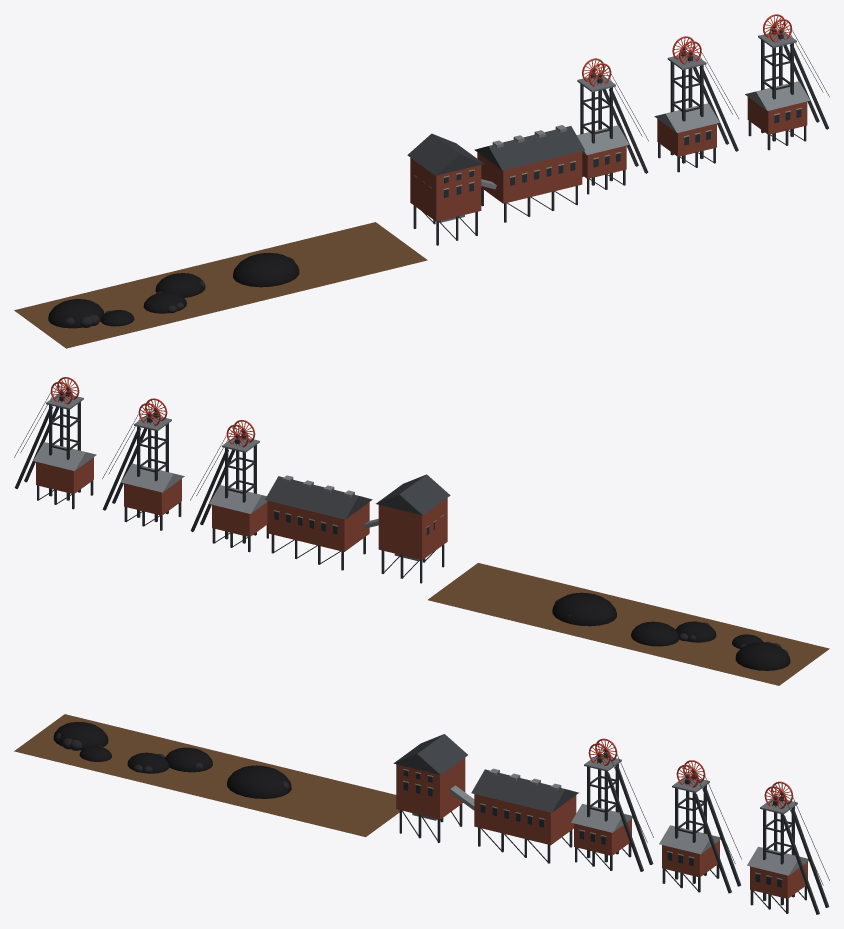
Rendered from mina_carvao.glb.
3 renders of one model, top to bottom at view 1: azimuth 30°, elevation 25°; view 2: azimuth 150°, elevation 25°; view 3: azimuth 330°, elevation 25°, orthographic. The views are drawn at different scales.
Parts seen in each view (by area): view 1: chao_terra, corpo, chao_terra.002, corpo.001, chao_terra.003, chao_terra.001, telhado.003, chao_monte, telhado.004, casa_poco, casa_poco.001, chao_monte.003 (+6 smaller); view 2: chao_terra, corpo, corpo.001, chao_terra.003, chao_terra.002, chao_terra.001, telhado.003, chao_monte, telhado.004, casa_poco.001, casa_poco, casa_poco.002 (+6 smaller); view 3: chao_terra, corpo, chao_terra.003, chao_terra.002, corpo.001, chao_terra.001, telhado.003, chao_monte, telhado.004, casa_poco.002, casa_poco, casa_poco.001 (+13 smaller).
Boxes of the visible parts, x1=… form: chao_terra: x1=285, y1=222, x2=427, y2=282; corpo: x1=477, y1=151, x2=582, y2=203; chao_terra.002: x1=104, y1=266, x2=246, y2=326; corpo.001: x1=410, y1=158, x2=481, y2=221; chao_terra.003: x1=14, y1=288, x2=156, y2=348; chao_terra.001: x1=195, y1=244, x2=337, y2=304; telhado.003: x1=474, y1=126, x2=584, y2=170; chao_monte: x1=233, y1=253, x2=299, y2=287; telhado.004: x1=407, y1=133, x2=483, y2=175; casa_poco: x1=747, y1=97, x2=807, y2=134; casa_poco.001: x1=657, y1=119, x2=716, y2=156; chao_monte.003: x1=48, y1=299, x2=104, y2=328; chao_terra: x1=428, y1=563, x2=565, y2=621; corpo: x1=267, y1=501, x2=369, y2=551; corpo.001: x1=378, y1=498, x2=447, y2=559; chao_terra.003: x1=691, y1=627, x2=829, y2=685; chao_terra.002: x1=603, y1=605, x2=741, y2=664; chao_terra.001: x1=515, y1=584, x2=653, y2=642; telhado.003: x1=265, y1=476, x2=372, y2=519; chao_monte: x1=552, y1=592, x2=616, y2=626; telhado.004: x1=376, y1=474, x2=450, y2=515; casa_poco.001: x1=124, y1=479, x2=181, y2=515; casa_poco: x1=36, y1=457, x2=93, y2=494; casa_poco.002: x1=212, y1=502, x2=267, y2=537; chao_terra: x1=278, y1=778, x2=399, y2=836; corpo: x1=474, y1=794, x2=576, y2=845; chao_terra.003: x1=14, y1=714, x2=152, y2=772; chao_terra.002: x1=102, y1=735, x2=239, y2=794; corpo.001: x1=396, y1=757, x2=465, y2=819; chao_terra.001: x1=190, y1=757, x2=328, y2=815; telhado.003: x1=471, y1=769, x2=578, y2=812; chao_monte: x1=227, y1=765, x2=291, y2=798; telhado.004: x1=393, y1=734, x2=467, y2=774; casa_poco.002: x1=574, y1=819, x2=631, y2=855; casa_poco: x1=750, y1=862, x2=807, y2=898; casa_poco.001: x1=662, y1=840, x2=719, y2=877.
Bounding box in the file's own units: 106 × 17.6 × 12.
